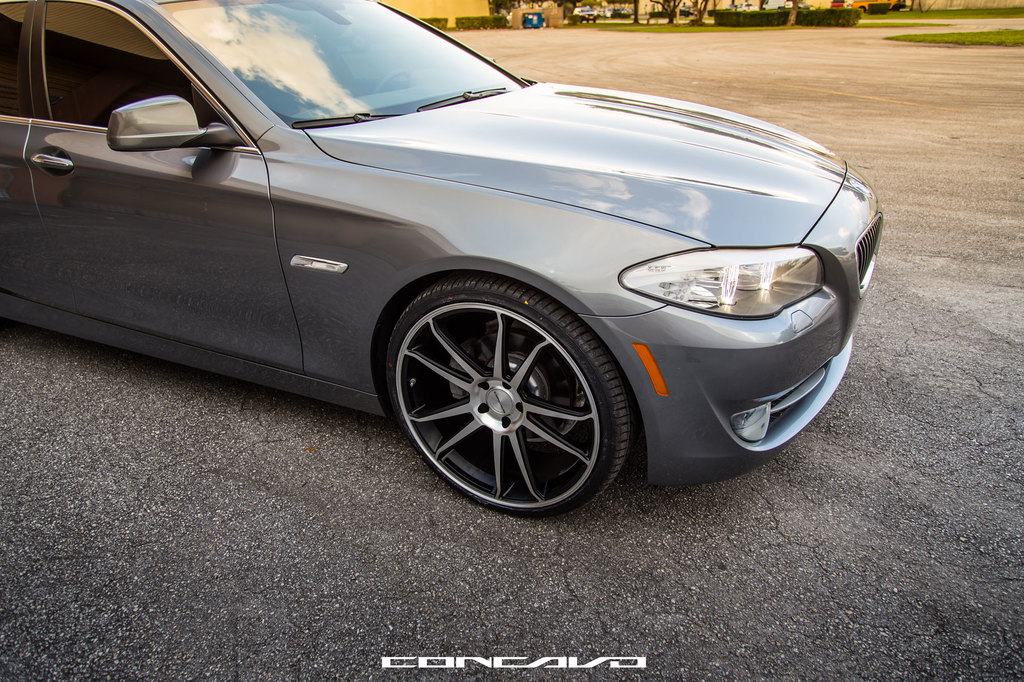Car: (7, 8, 887, 515)
